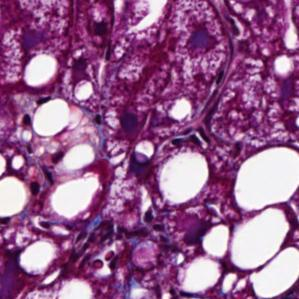inflammation: (110, 201, 172, 247), (26, 148, 68, 199), (74, 232, 121, 277), (174, 19, 224, 61)
